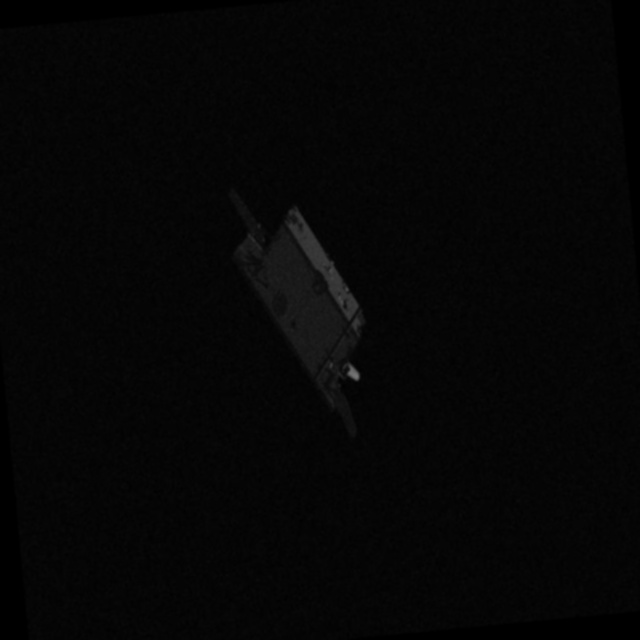medium_debris: (216, 186, 400, 458)
